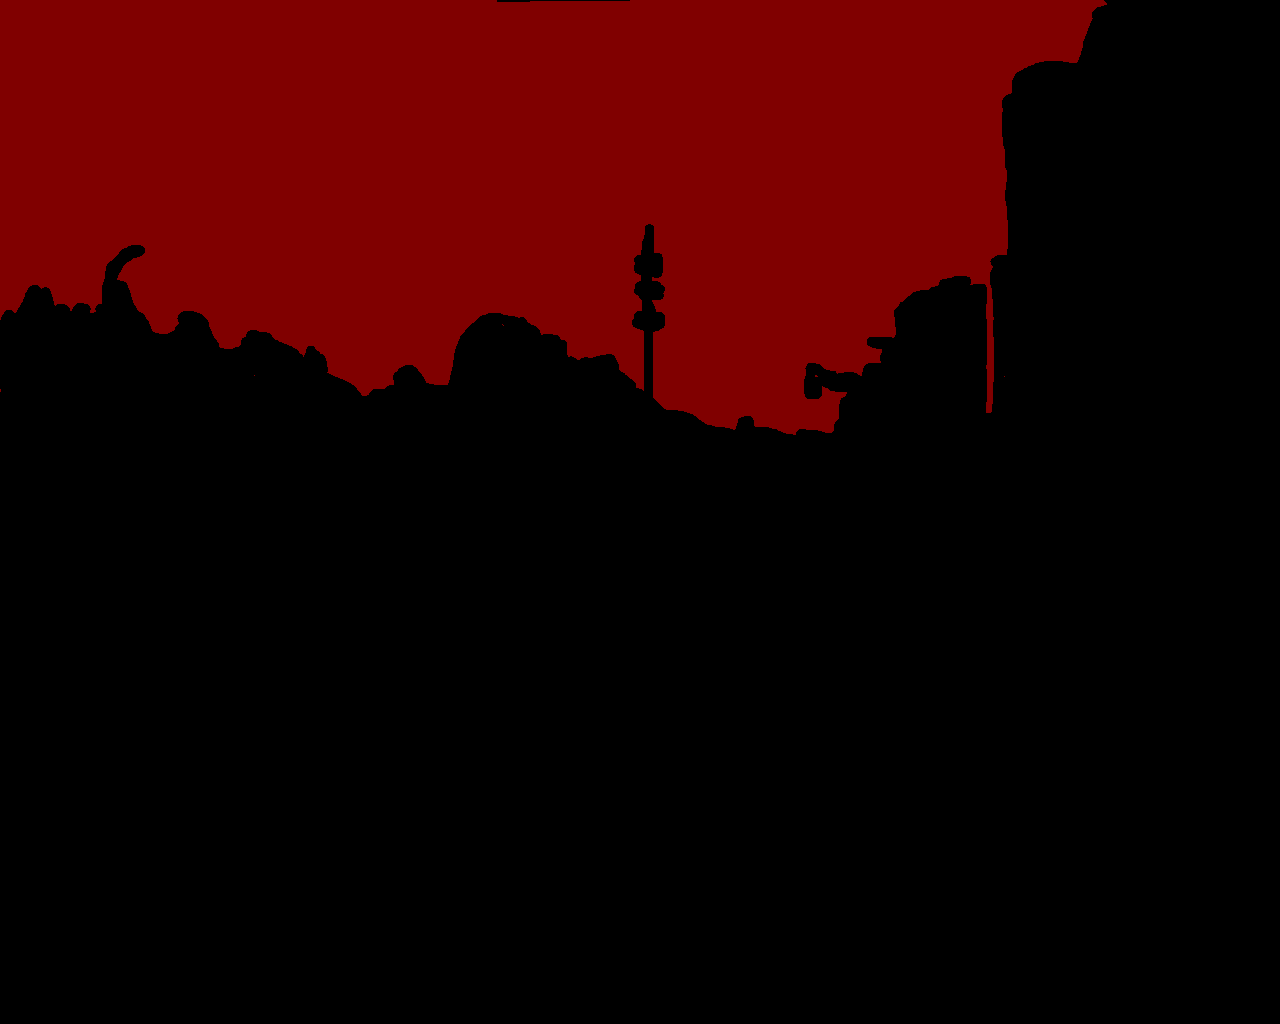Sky: (1, 1, 1106, 435)
